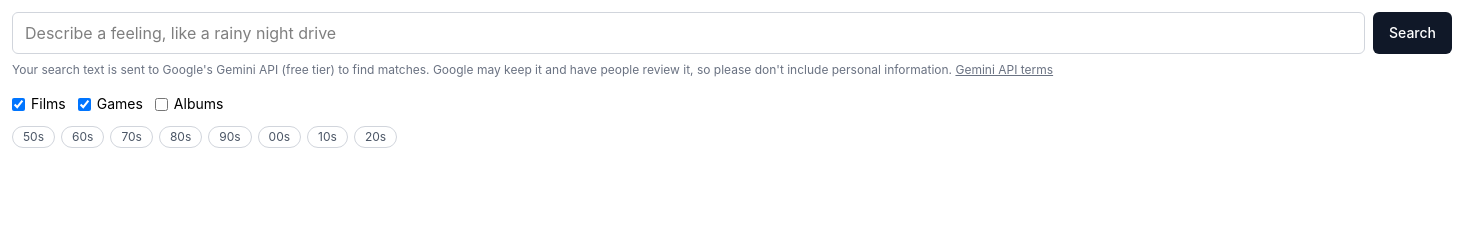
Scenario: a network failure shows a connection message
Type "x" into the search field at (688, 33), box [12,12,1365,54]
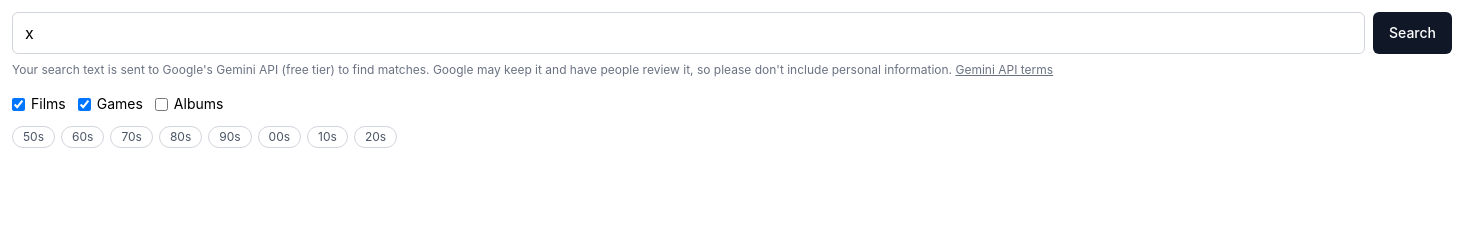
Click the button "Search" at (1412, 33), box [1373,12,1452,54]
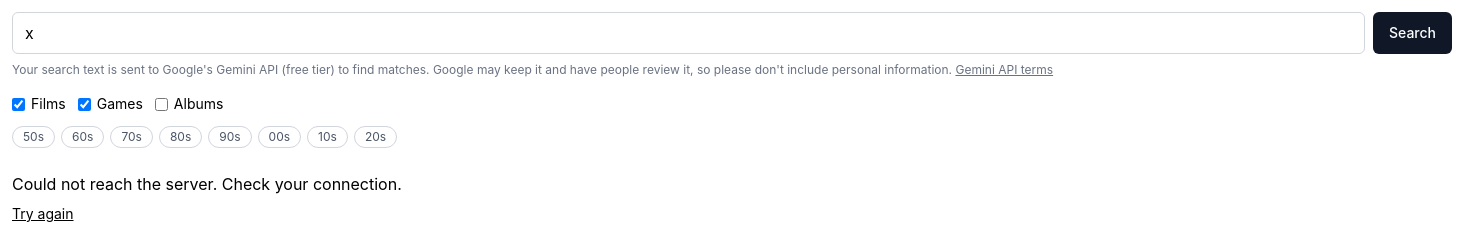
Result: the message shows "Could not reach the server" at [12,174,402,194]
